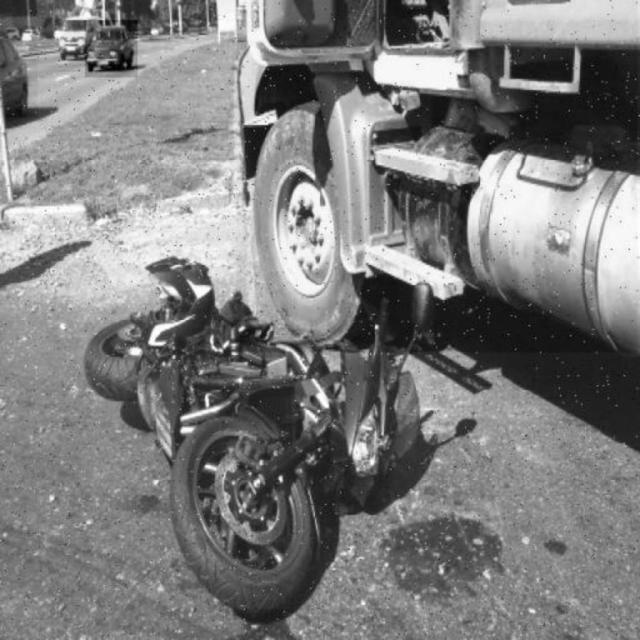vehicle: (236, 1, 637, 353), (92, 314, 430, 608), (0, 32, 37, 118), (85, 21, 137, 78)
